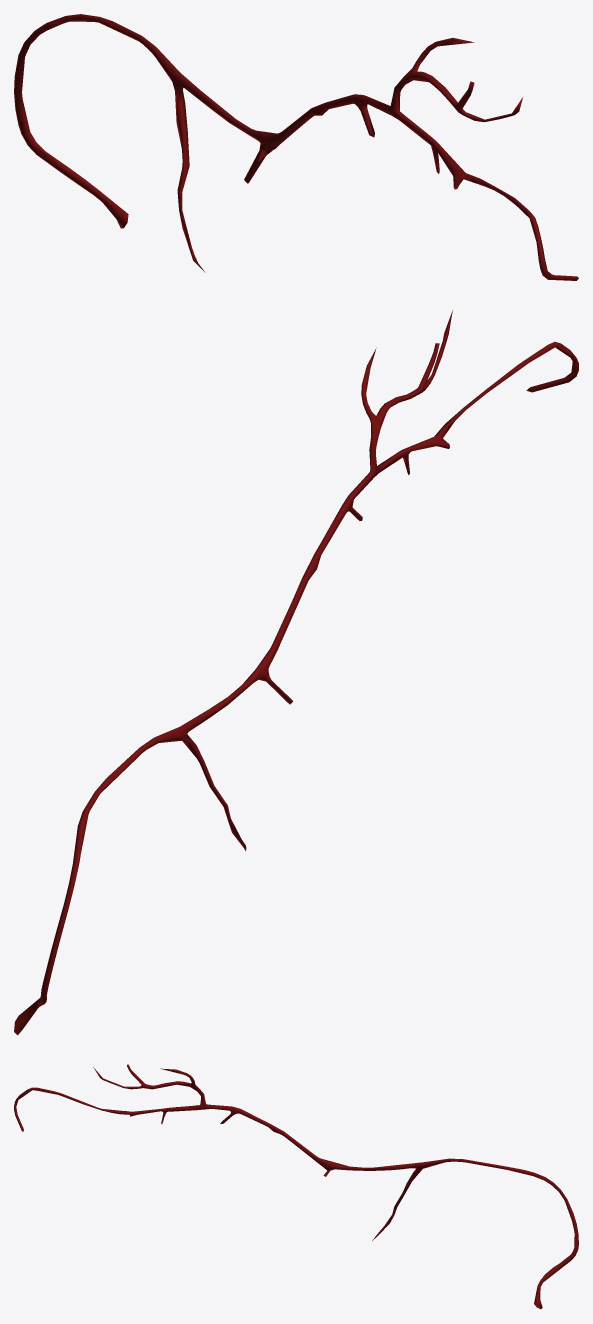
Rendered from R arteria cervicalis profunda.fbx.
3 renders of one model, top to bottom at view 1: azimuth 30°, elevation 25°; view 2: azimuth 150°, elevation 25°; view 3: azimuth 270°, elevation 25°, orthographic. The views are drawn at different scales.
Parts seen in each view (by area): view 1: R arteria cervicalis profunda, R arteria cervicalis profunda low, R arteria cervicalis profunda high; view 2: R arteria cervicalis profunda, R arteria cervicalis profunda low, R arteria cervicalis profunda high; view 3: R arteria cervicalis profunda, R arteria cervicalis profunda low, R arteria cervicalis profunda high.
Part boxes in pixels (x1,y1,x2,y2): R arteria cervicalis profunda: (14, 14, 578, 280); R arteria cervicalis profunda low: (18, 17, 569, 279); R arteria cervicalis profunda high: (14, 17, 565, 280); R arteria cervicalis profunda: (14, 310, 578, 1035); R arteria cervicalis profunda low: (15, 311, 578, 1033); R arteria cervicalis profunda high: (17, 338, 567, 1024); R arteria cervicalis profunda: (14, 1064, 578, 1309); R arteria cervicalis profunda low: (14, 1067, 576, 1303); R arteria cervicalis profunda high: (15, 1070, 574, 1308).
Bounding box in the file's own units: 3.23 × 15.87 × 34.12.
